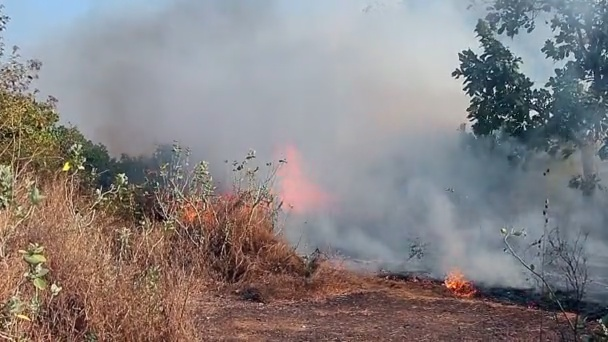fire: (447, 273, 473, 295), (63, 160, 69, 170)
